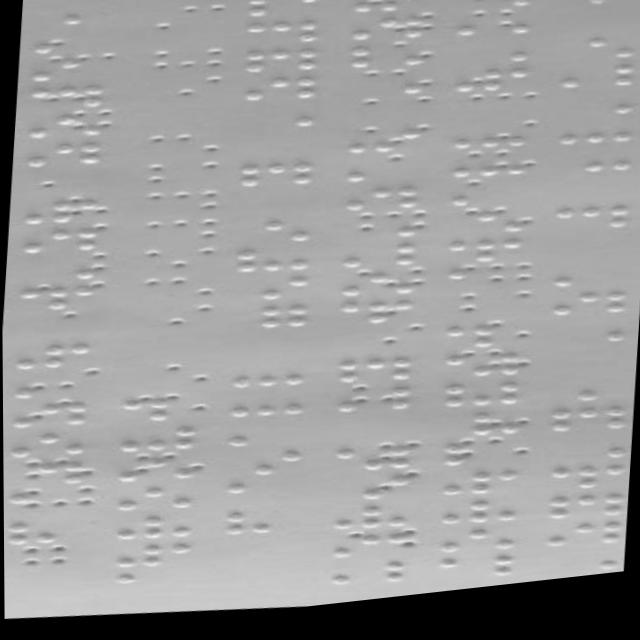braiile: (225, 358, 307, 399), (543, 501, 624, 538), (546, 415, 627, 452), (220, 451, 301, 488), (229, 249, 310, 286), (11, 339, 92, 376), (322, 563, 403, 599), (112, 513, 193, 549), (6, 428, 87, 464), (227, 306, 309, 341), (550, 300, 629, 336), (116, 424, 195, 460), (329, 508, 410, 543), (229, 278, 310, 313), (233, 221, 314, 256), (544, 529, 620, 566), (552, 327, 629, 363), (333, 362, 410, 398), (18, 225, 95, 261), (225, 393, 304, 428), (110, 542, 191, 576), (240, 104, 316, 140), (435, 534, 515, 568), (242, 49, 322, 83), (547, 473, 624, 508), (439, 505, 518, 539), (439, 478, 518, 512), (16, 284, 95, 318), (18, 254, 97, 288), (23, 139, 101, 173), (551, 446, 628, 480), (557, 73, 634, 107), (559, 45, 636, 79), (445, 245, 522, 279), (557, 127, 631, 162), (113, 486, 190, 519), (342, 247, 416, 281), (237, 165, 313, 198), (558, 102, 633, 135), (447, 220, 524, 252), (349, 76, 421, 110), (343, 192, 417, 225), (241, 78, 315, 111), (548, 557, 618, 591), (558, 159, 630, 192), (455, 48, 529, 80), (348, 49, 422, 81)
